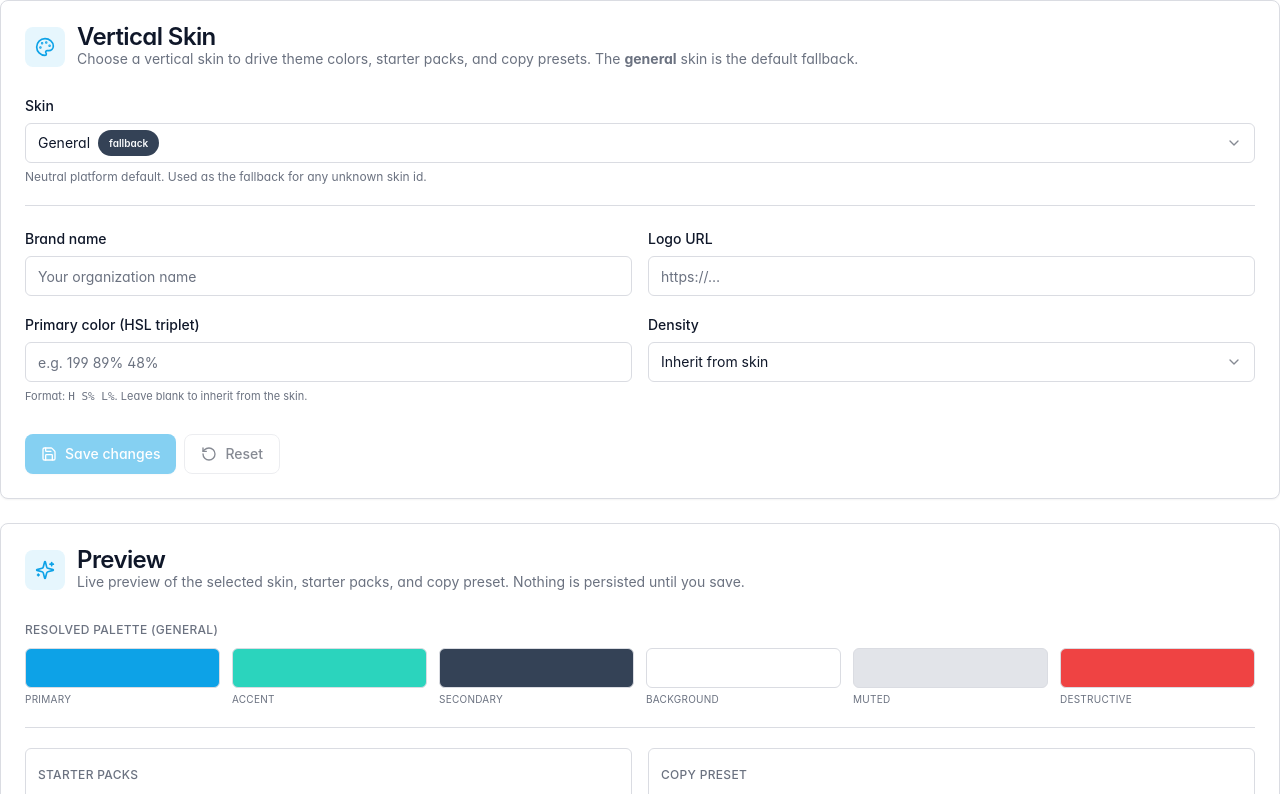
AppearanceSection › marks form dirty and enables Save when the user edits brand name
This screenshot has width=1280, height=794.
Type "New Brand" into the field labelled "Brand name" at {"x": 328, "y": 276}, box [25,256,632,296]
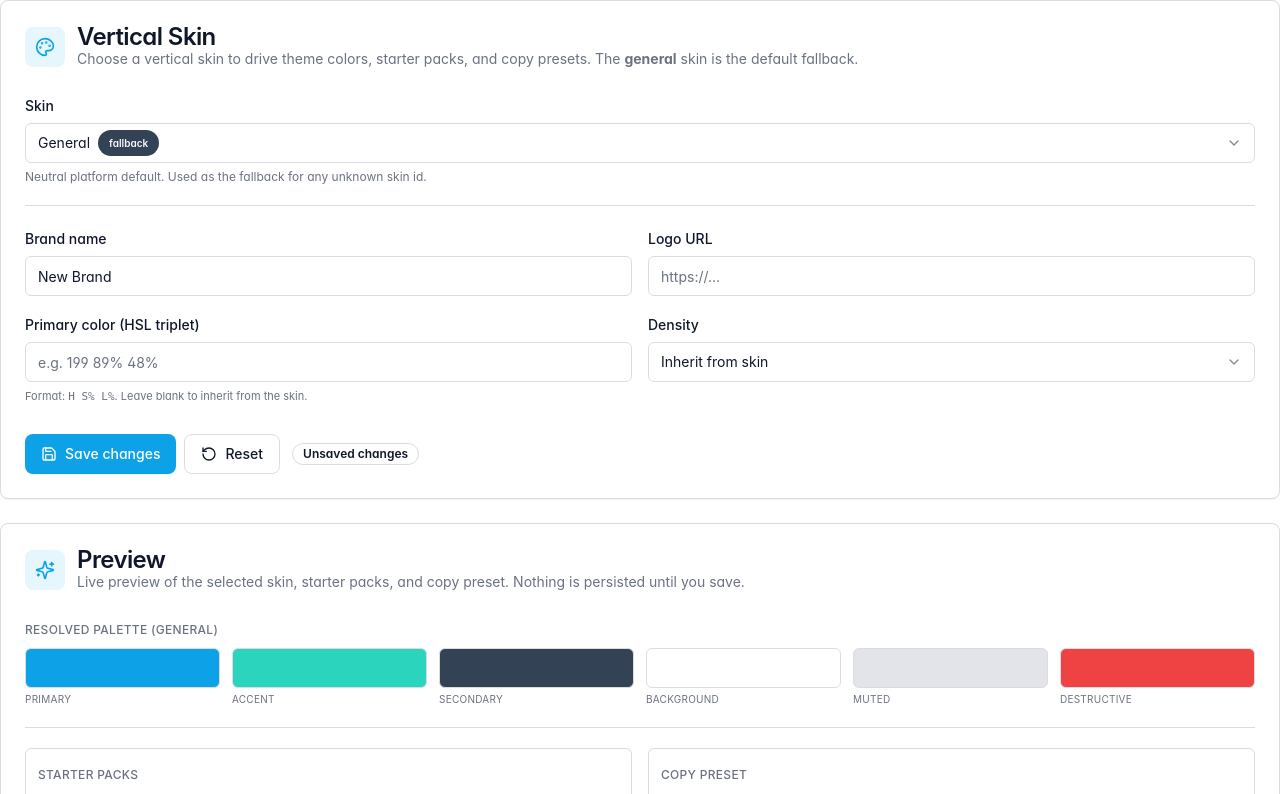
Check: the text "Unsaved changes" is shown, box [292,442,419,464]
Check: the button "Save changes" is enabled, box [25,434,176,474]
